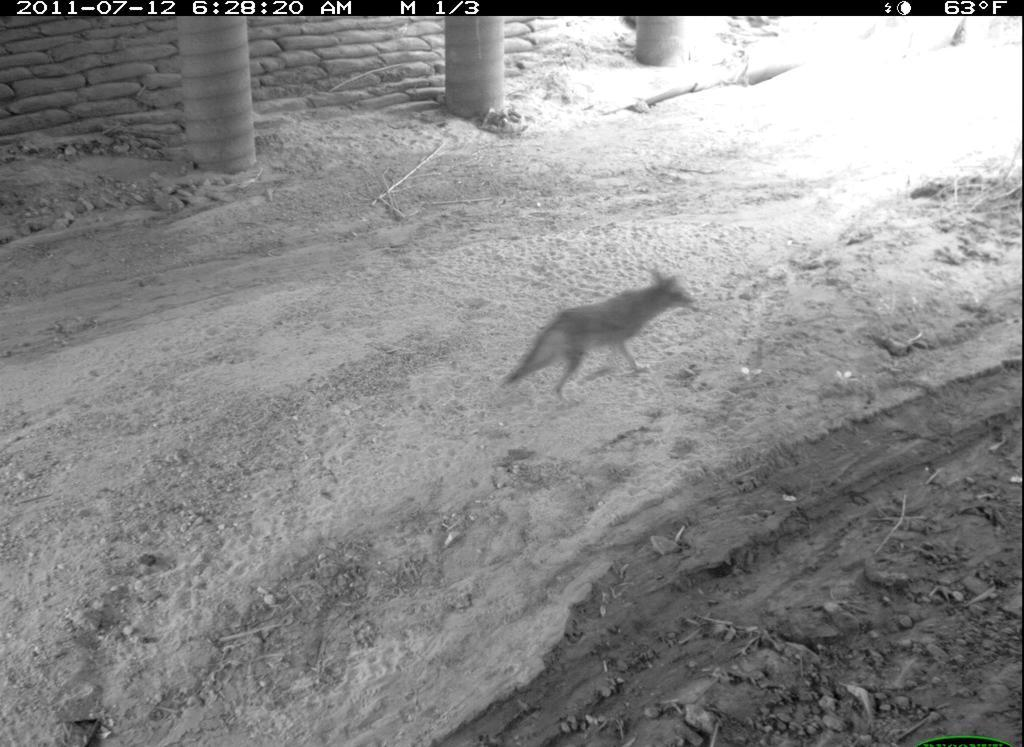coyote: (506, 272, 702, 395)
